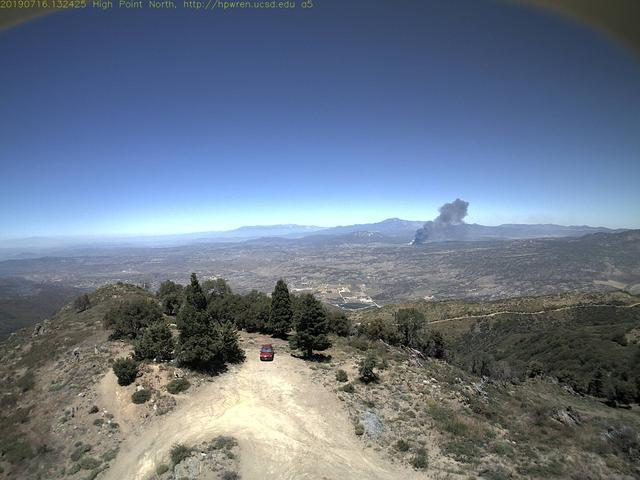smoke: (402, 195, 474, 251)
